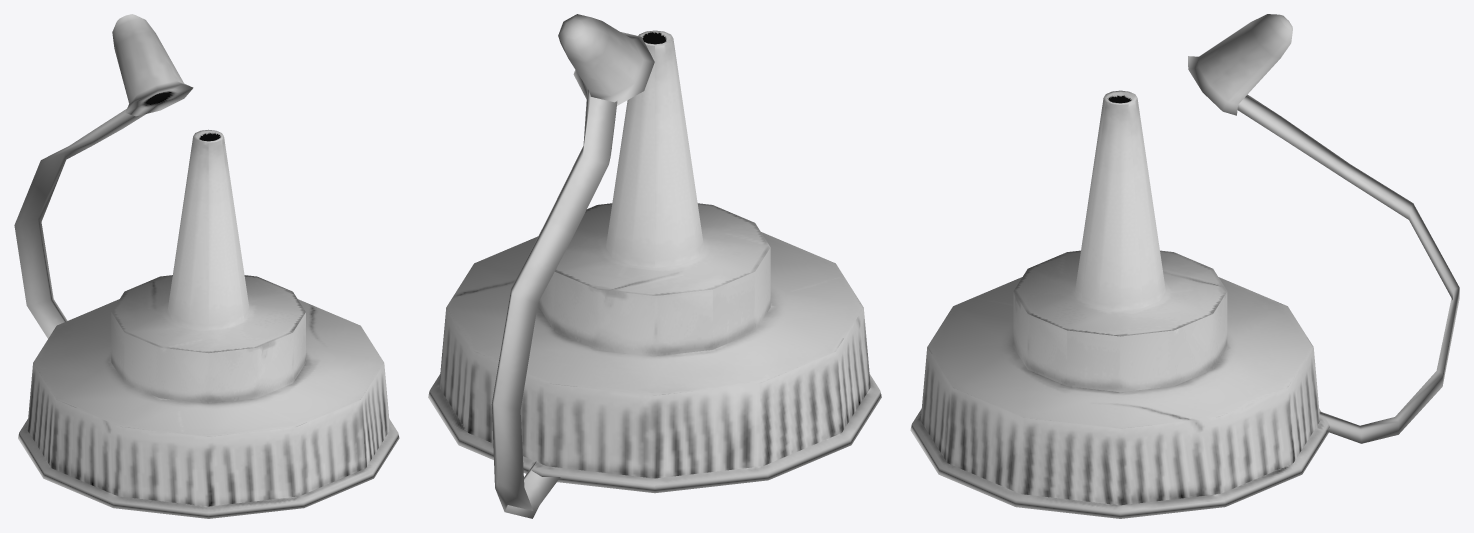
File: sauceCapMayonnaise.glb
3 renders of one model, left to right at view 1: azimuth 30°, elevation 25°; view 2: azimuth 150°, elevation 25°; view 3: azimuth 270°, elevation 25°, orthographic. The views are drawn at different scales.
Visible parts, largest first — view 1: Hat_SauceCap_mayo; view 2: Hat_SauceCap_mayo; view 3: Hat_SauceCap_mayo.
Boxes of the visible parts, bbox=[...] form: Hat_SauceCap_mayo: bbox=[14, 14, 399, 518]; Hat_SauceCap_mayo: bbox=[428, 14, 881, 518]; Hat_SauceCap_mayo: bbox=[910, 14, 1459, 518].
Size of the model in its own units: 1.02 by 1.12 by 1.33.
Materials: 1 (1 with a texture image).
